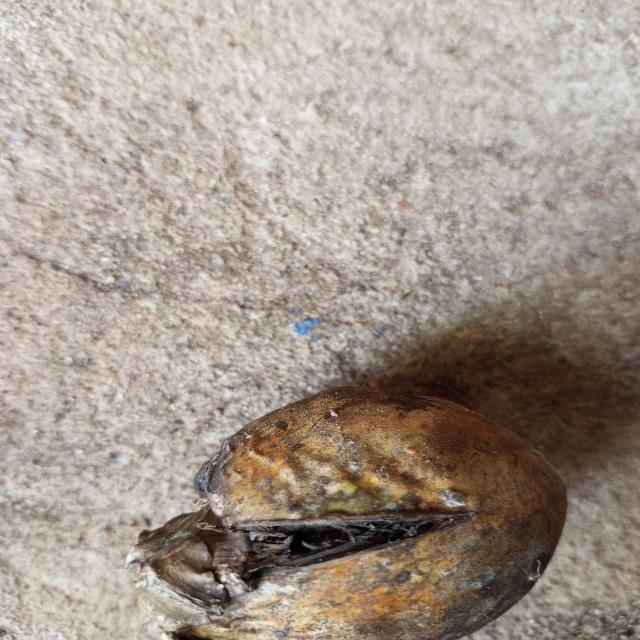damaged: (127, 387, 566, 640)
